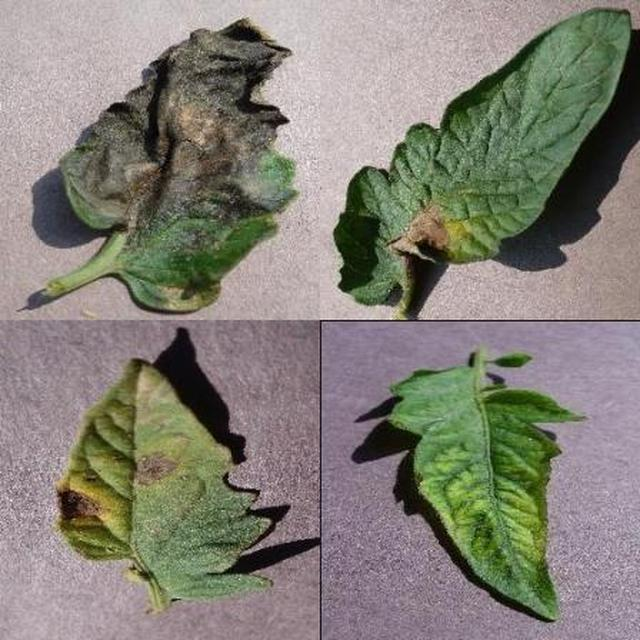Late Blight Leaf: (233, 223, 640, 640)
